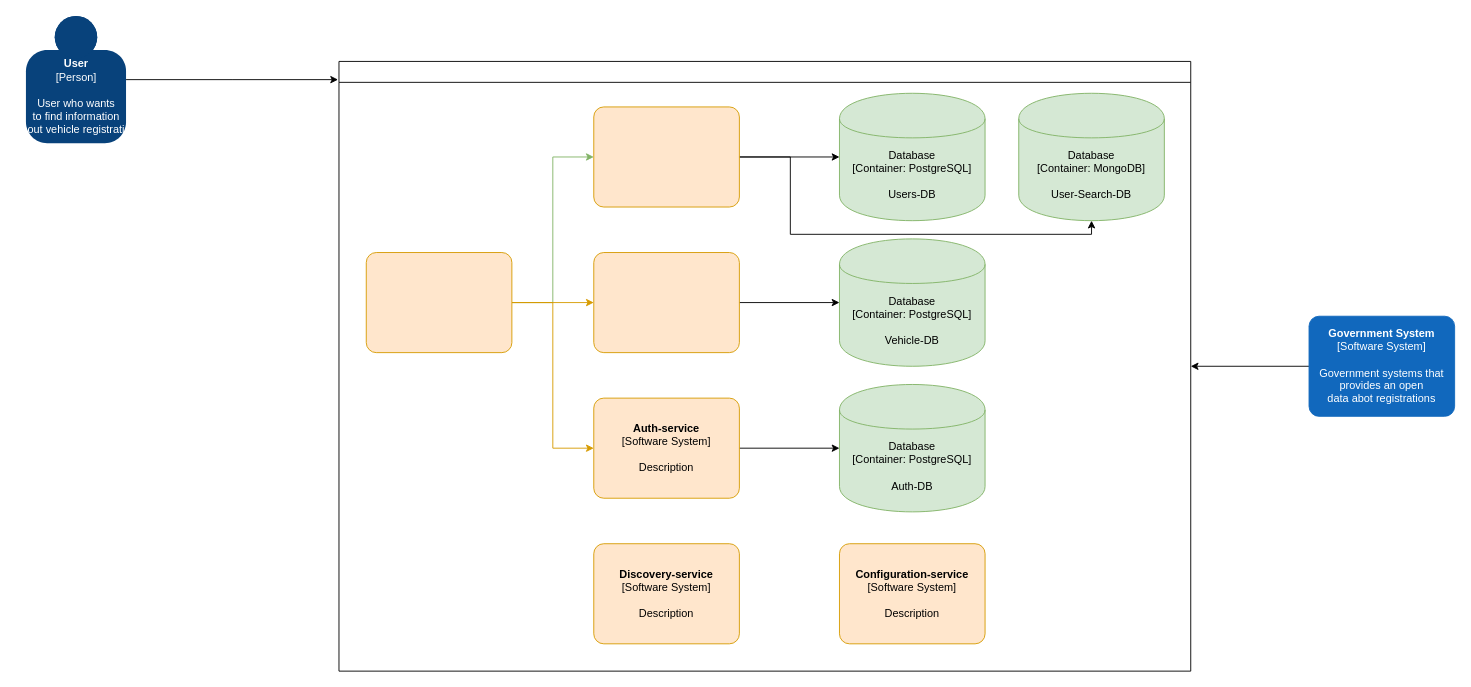
The diagram is 1471 pixels wide and 687 high, and some of its shapes have lost their labels. The box of each missing label's shape, as (x1, y1, x2, y2) in pixels:
Application-Frontend [Software System] Description: (365, 252, 512, 353)
ua-vehicle-registrations: (338, 61, 1191, 671)
User-service [Software System] Rest API for users data interaction: (593, 106, 739, 207)
Vehicle-service [Software System] Description: (593, 252, 739, 353)
